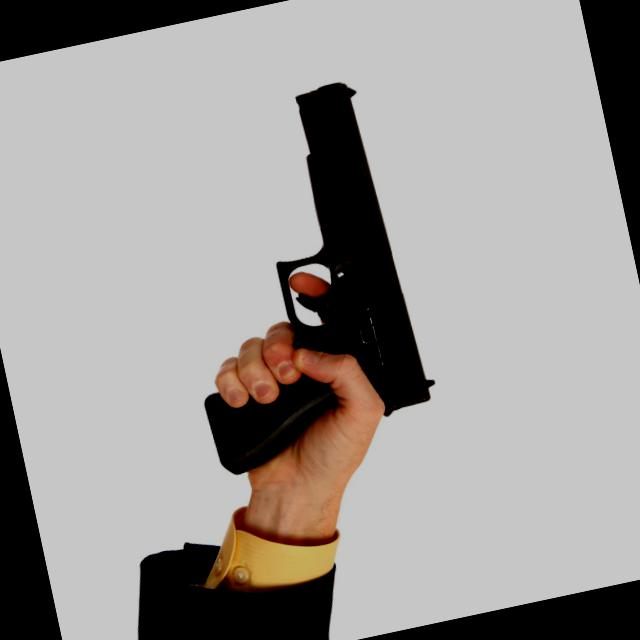handgun: (139, 67, 459, 480)
